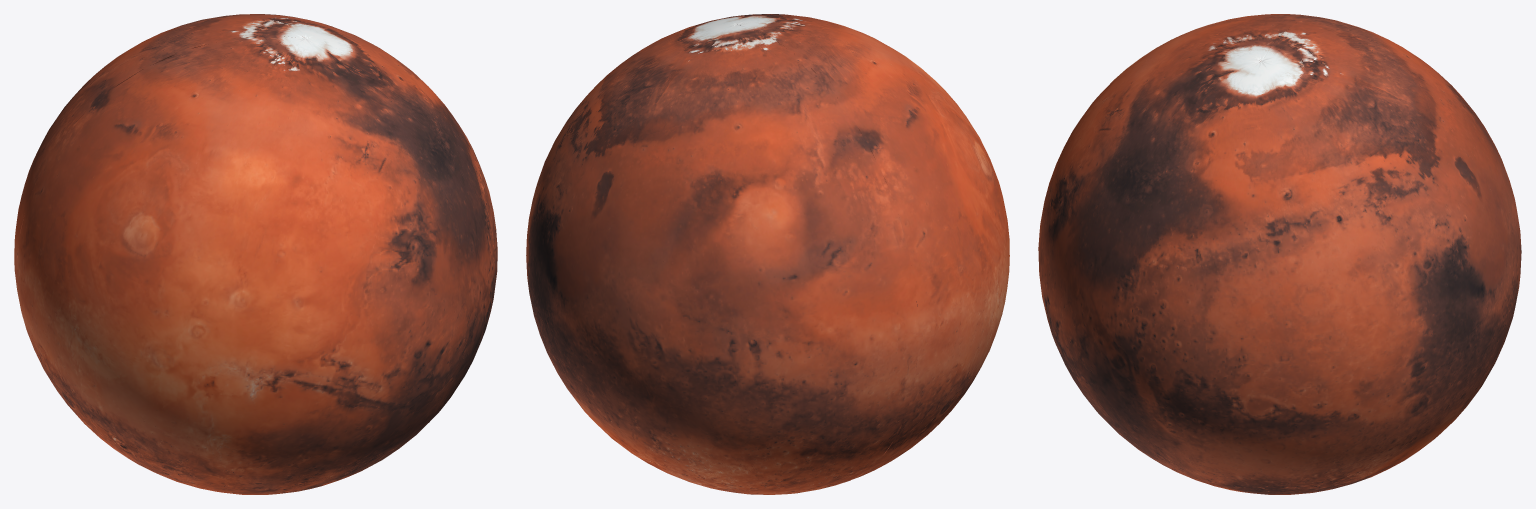
Rendered from mars.glb.
3 renders of one model, left to right at view 1: azimuth 30°, elevation 25°; view 2: azimuth 150°, elevation 25°; view 3: azimuth 270°, elevation 25°, orthographic.
Parts seen in each view (by area): view 1: Mars; view 2: Mars; view 3: Mars.
Boxes of the visible parts, x1,y1,x2,y2 form: Mars: (14,14,497,494); Mars: (526,14,1009,494); Mars: (1038,14,1521,494).
Size of the model in its own units: 2.8 by 2.78 by 2.8.
1 material, 1 textured.
